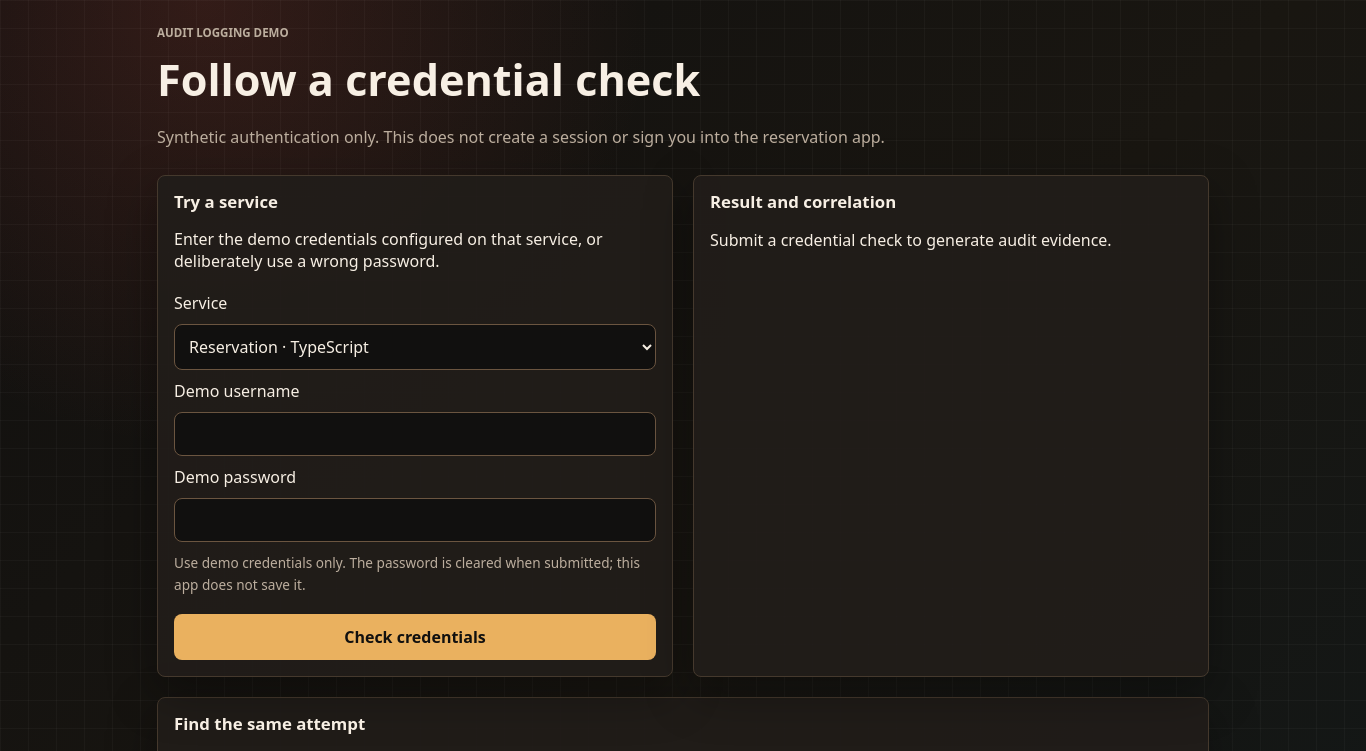
audit credential check screen › shows validated evidence for authenticated=false and clears the password
Select "Recommendation · Rust" in the dropdown labelled "Service": [415, 347] box [174,324,656,370]
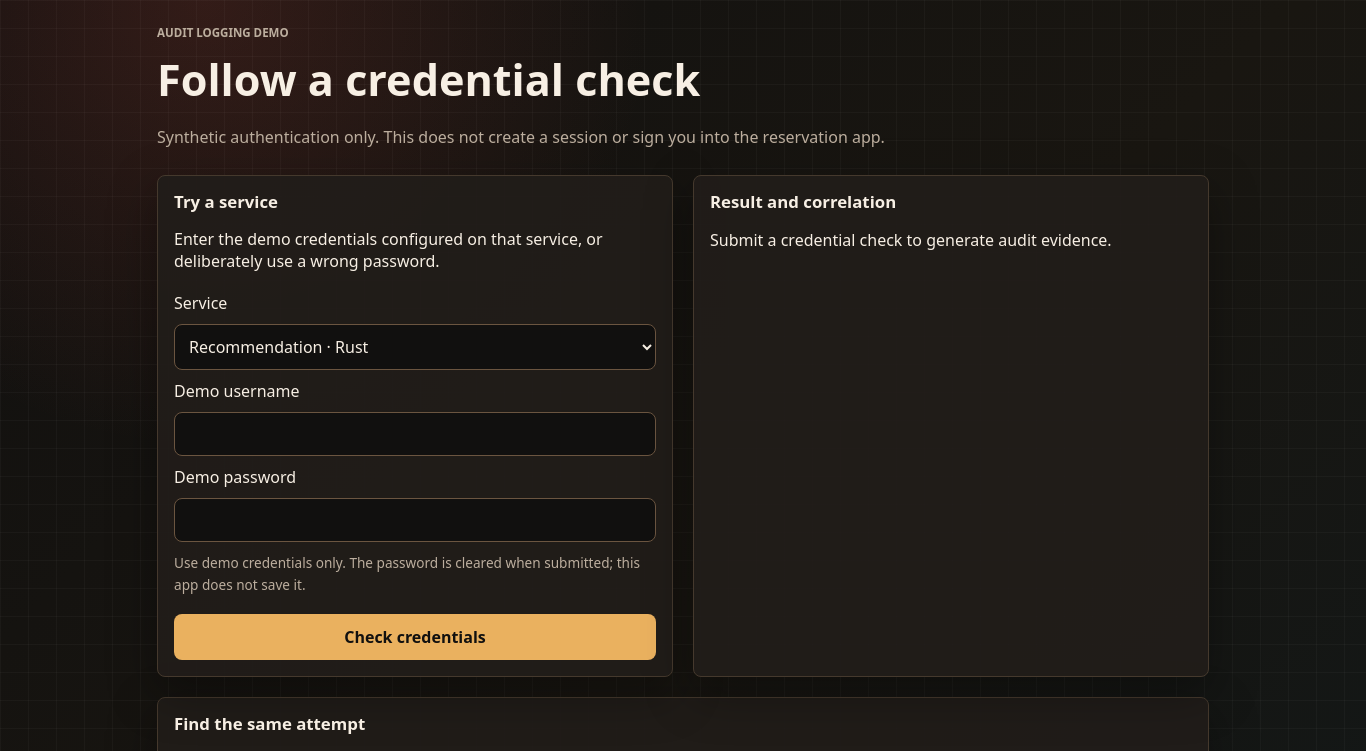
In the field labelled "Demo username": [415, 434] box [174,412,656,456], type "demo-only"
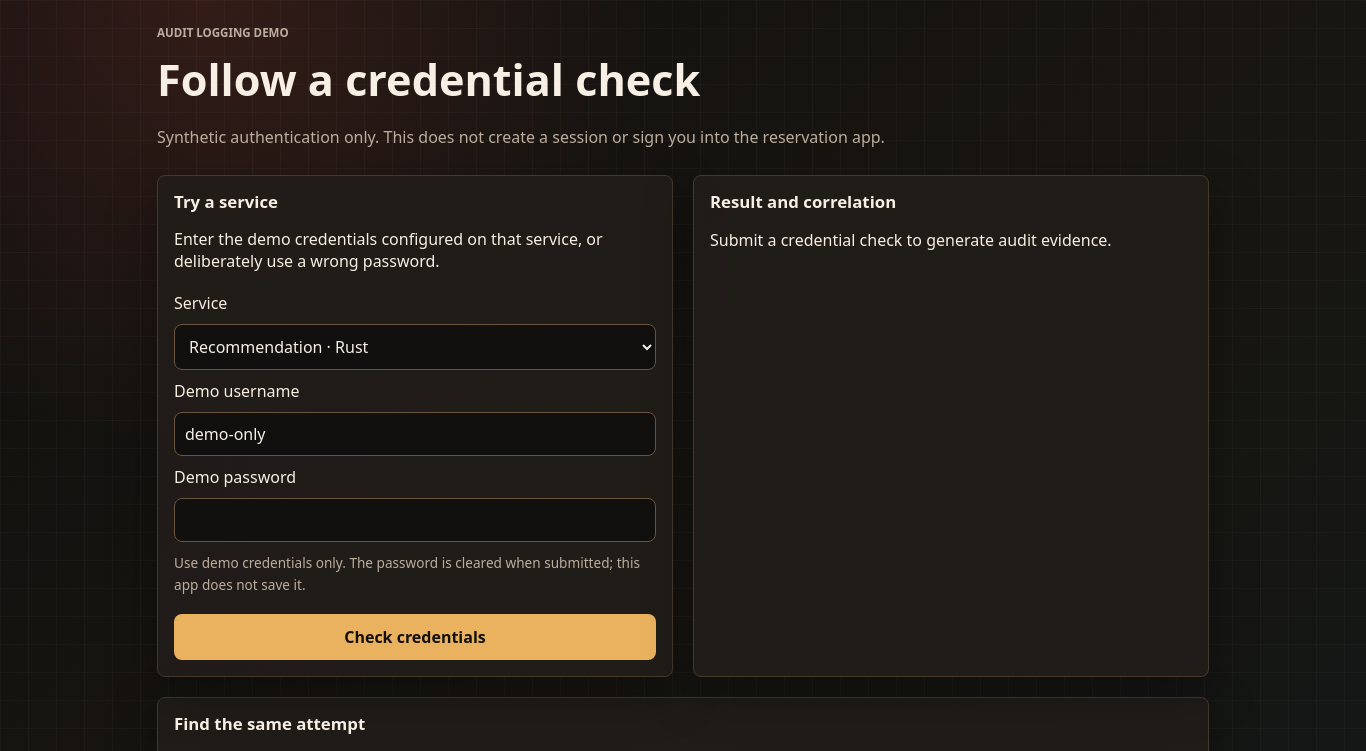
In the password field labelled "Demo password": [415, 520] box [174,498,656,542], type "wrong-test-password"
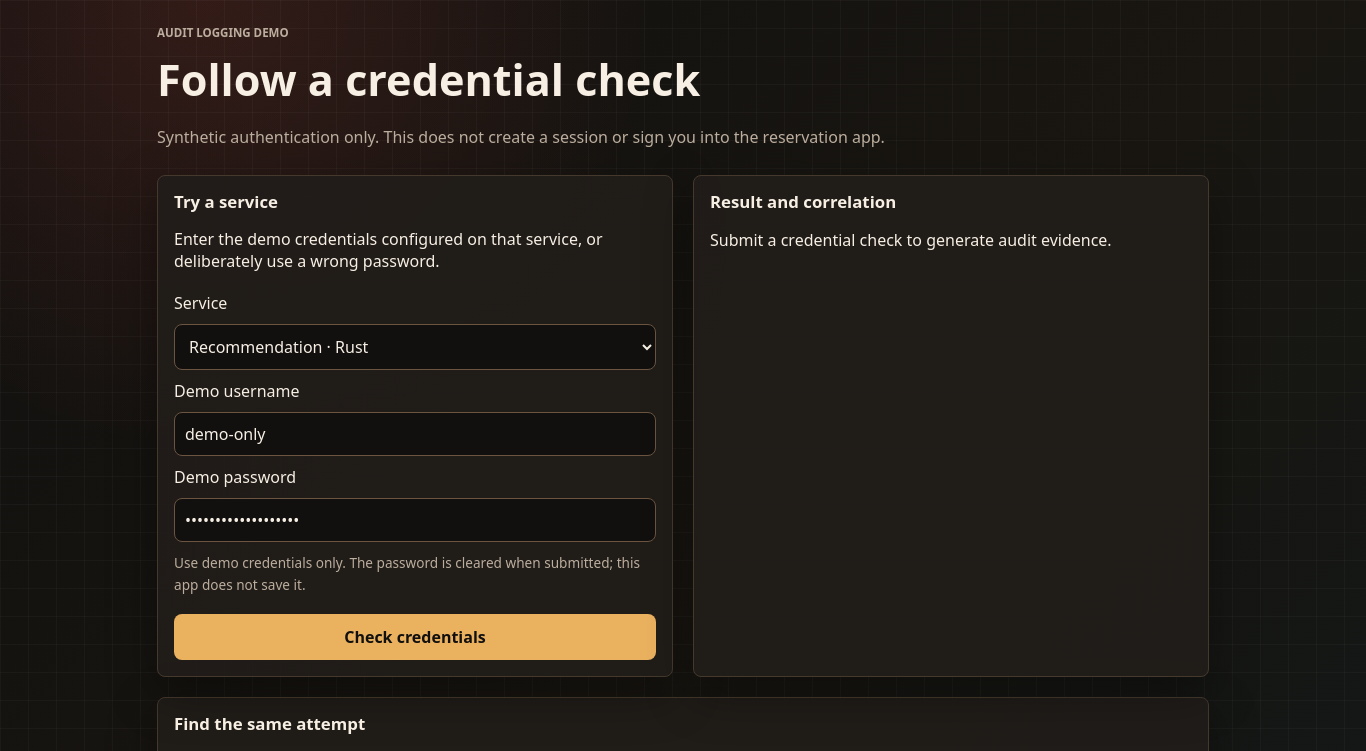
Click the button "Check credentials": [415, 637] box [174,614,656,660]
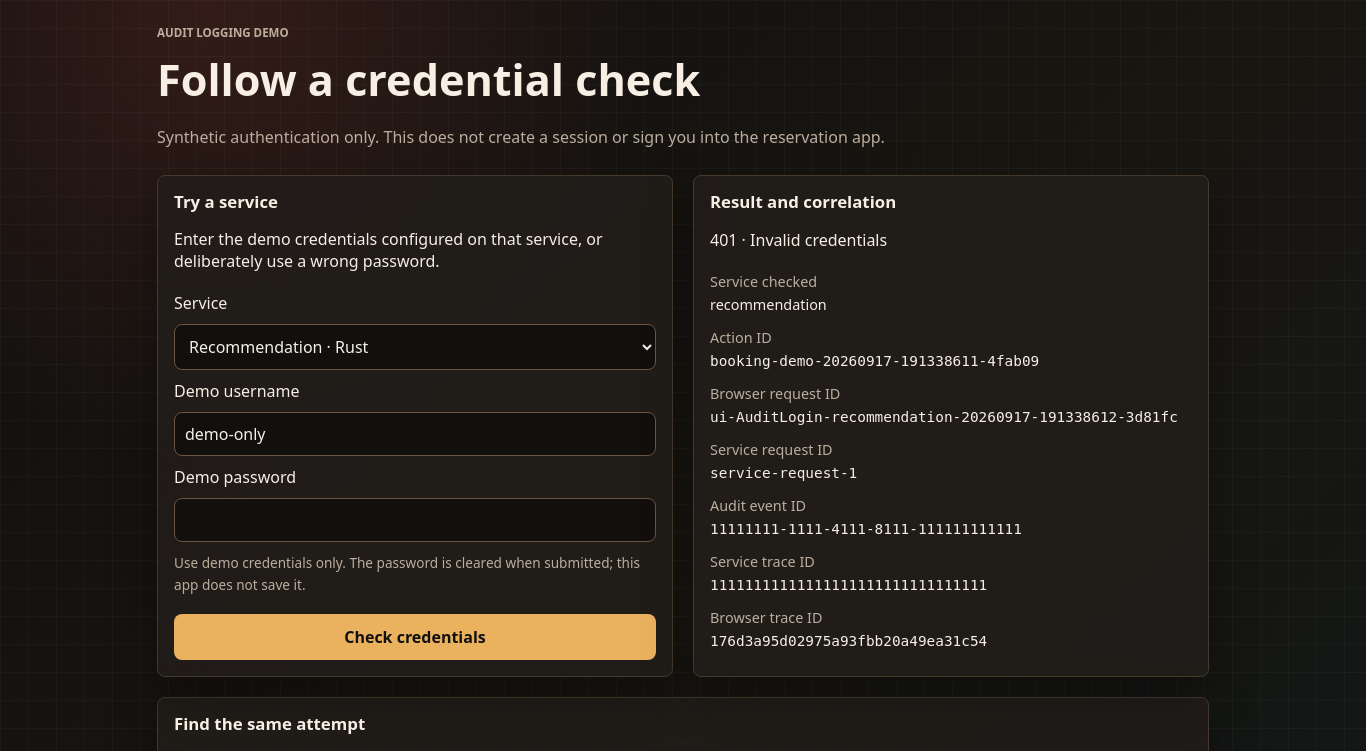
expect the password field labelled "Demo password" is empty: met, box [174,498,656,542]
expect the text "11111111-1111-4111-8111-111111111111" is shown: met, box [710,521,1022,537]
expect the text "service-request-1" is shown: met, box [710,465,857,481]
